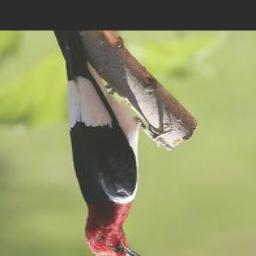Woodpecker: (50, 32, 154, 256)
